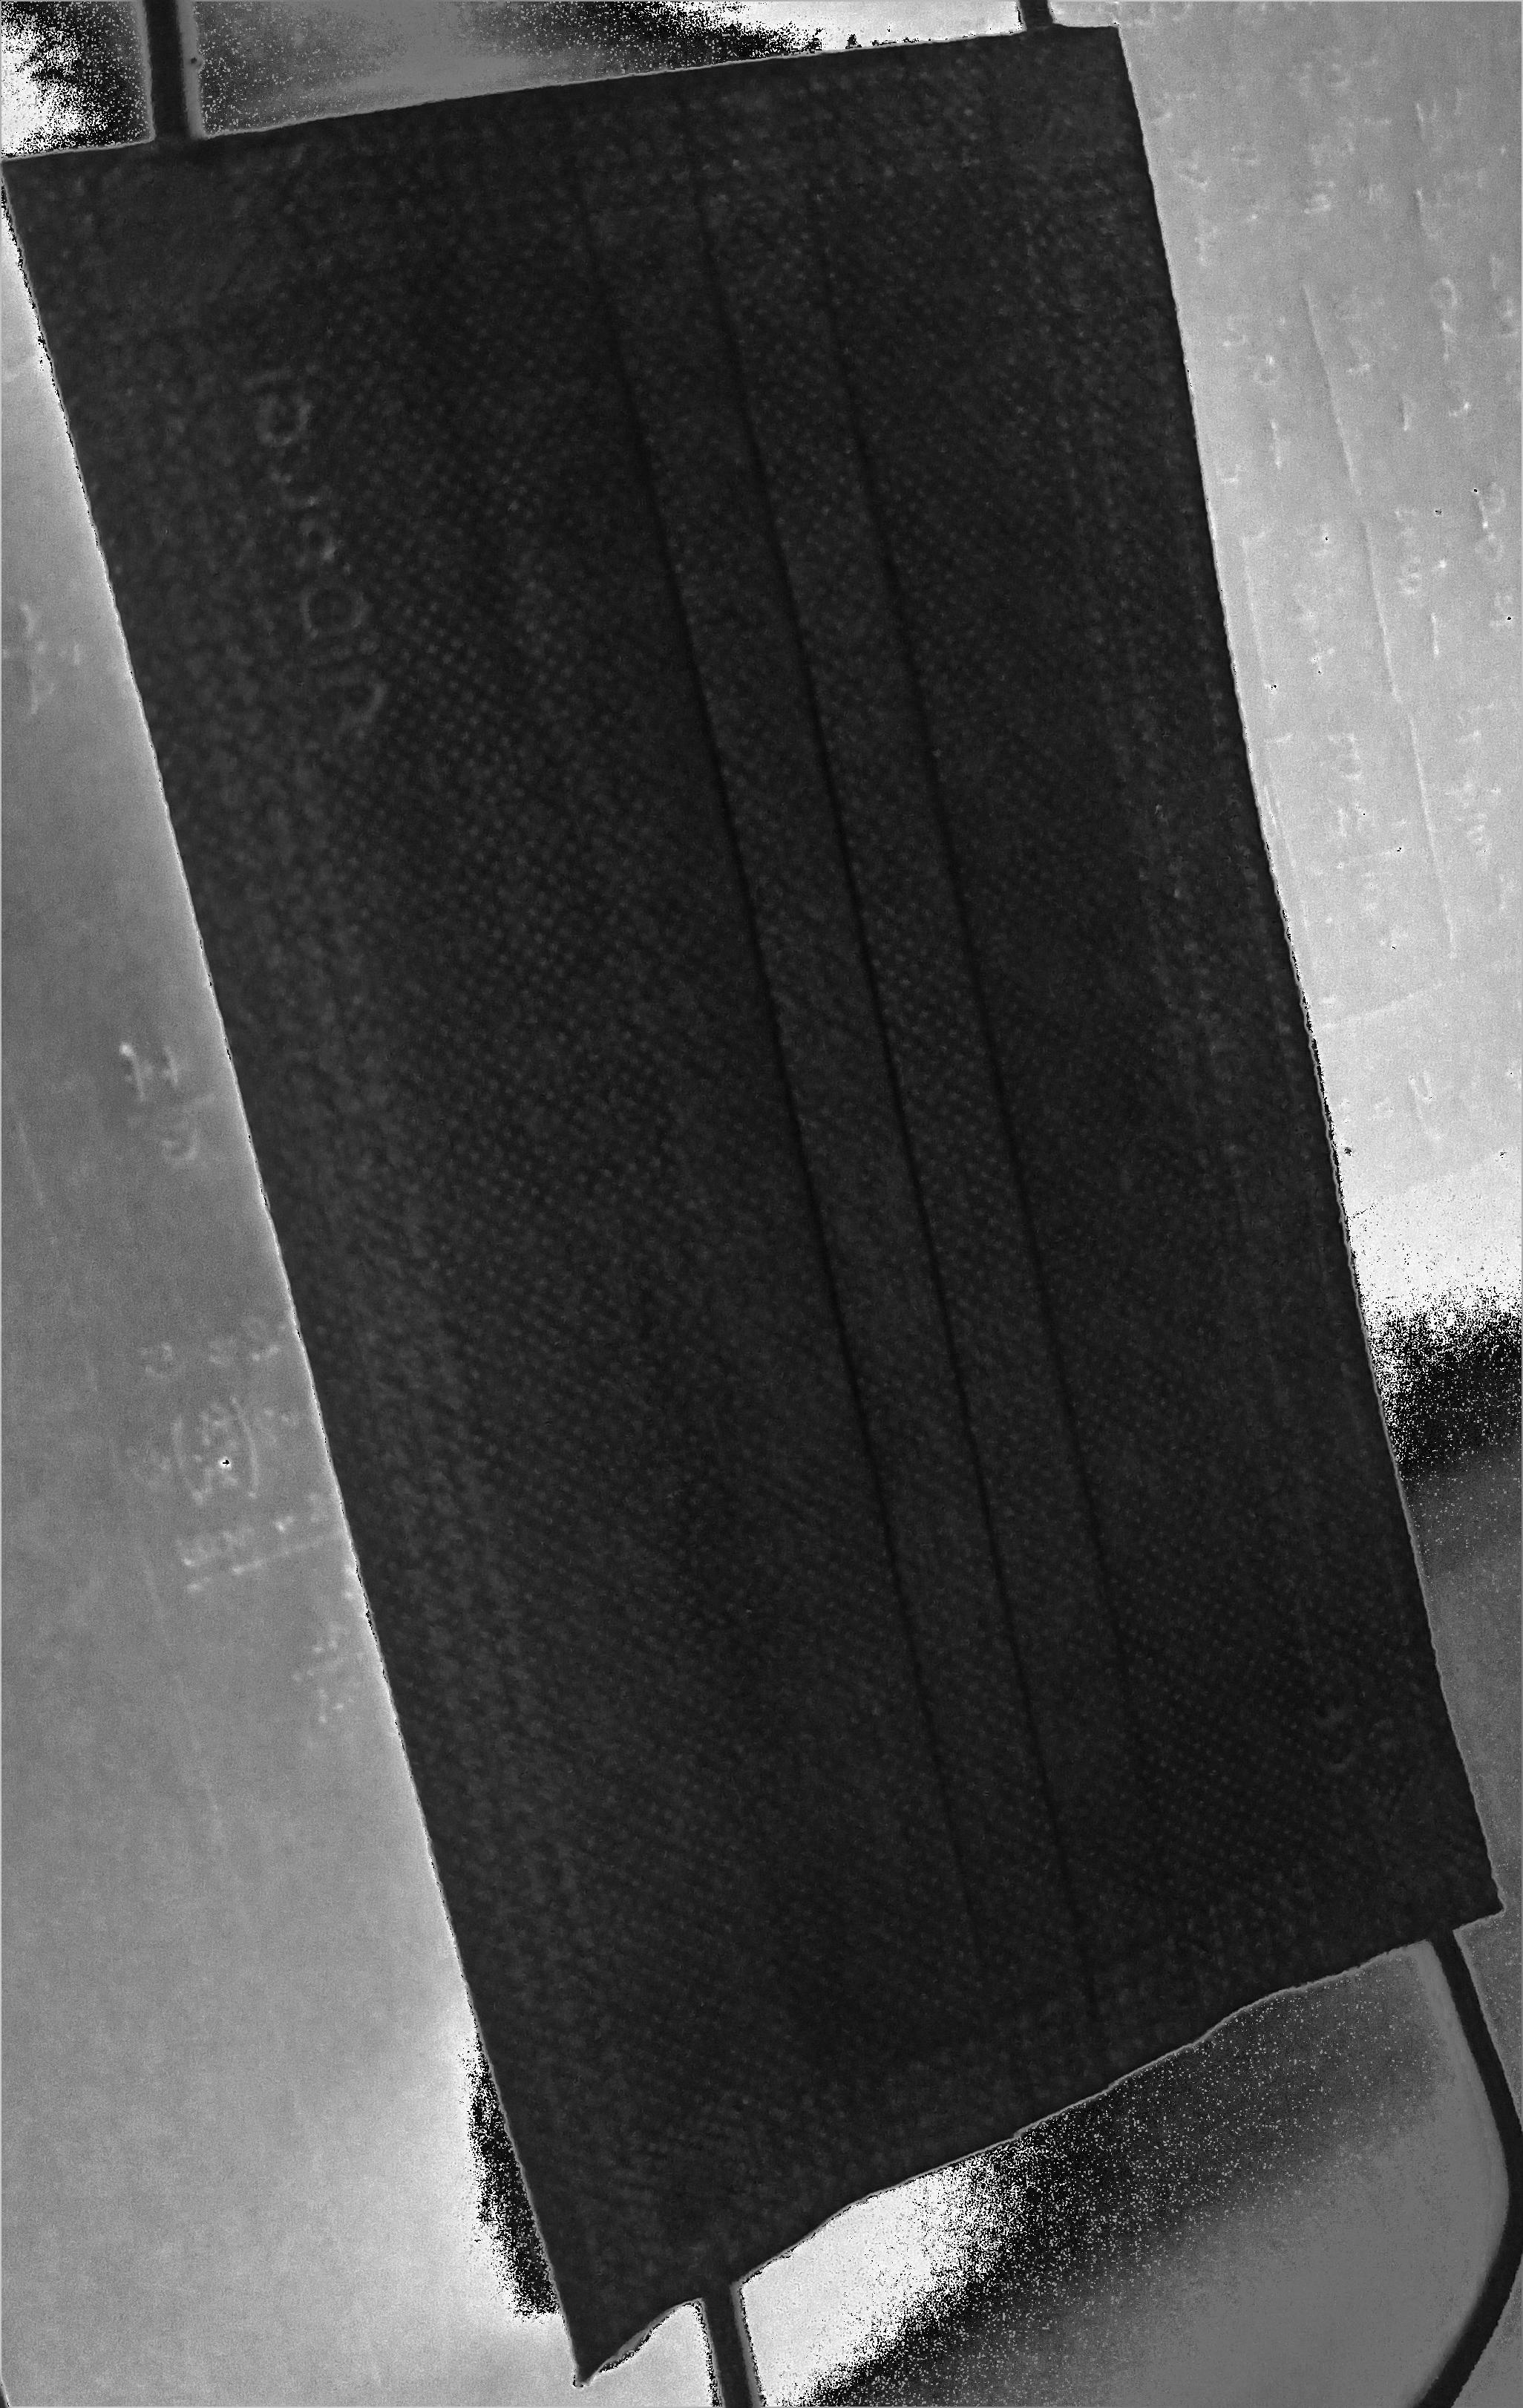Low GSM: (330, 360, 1104, 1129)
